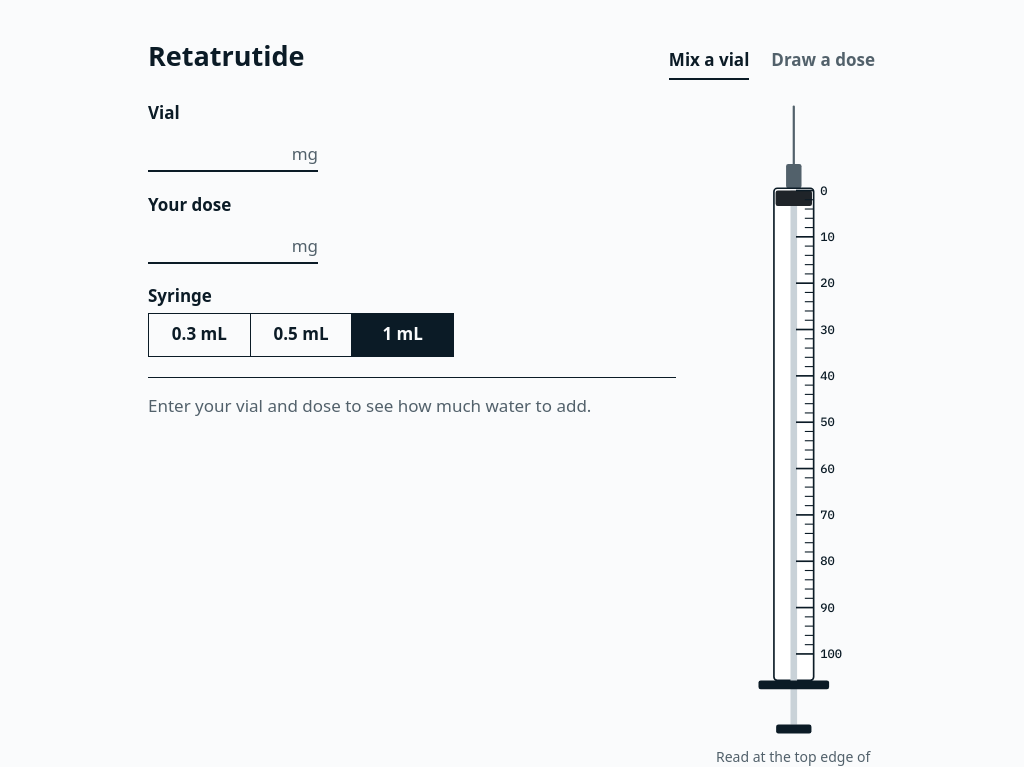
draw: a dose that won't fit shows the message and the overflow state
Click the tab "Draw a dose".
click(823, 60)  # box [770,45,876,76]
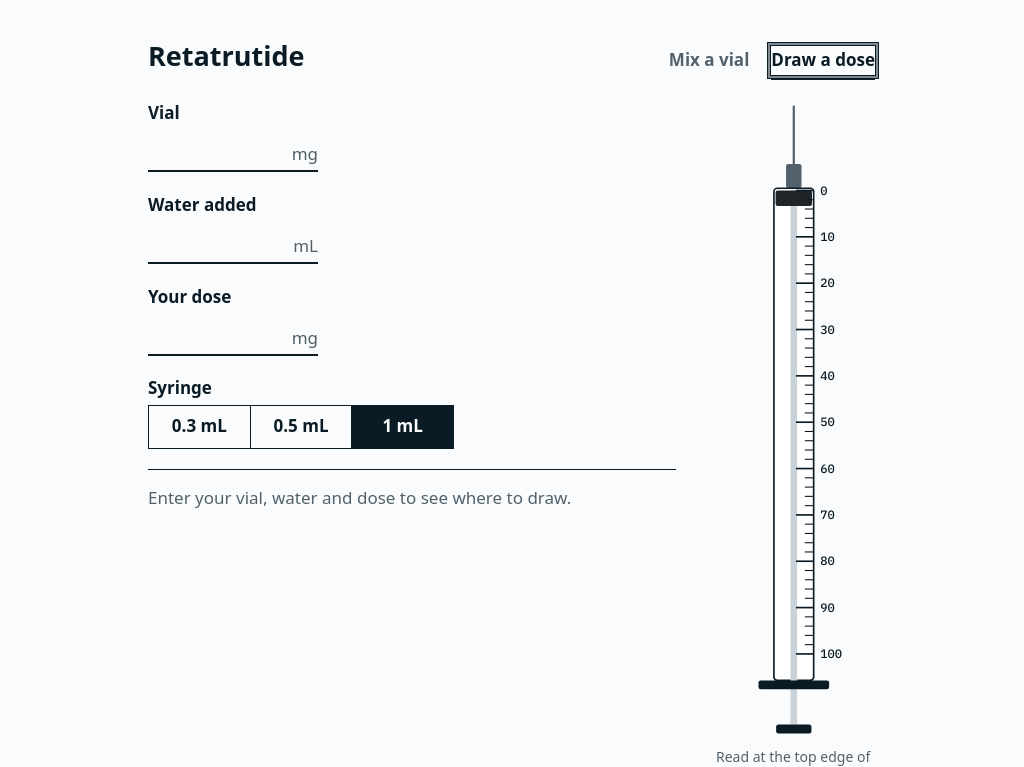
Result: the element named "Answer" reads "Enter your vial, water and dose to see where to draw." at [148,486,571,509]
Type "10" into the field labelled "Vial".
click(217, 150); type("10")  # box [148,130,286,170]
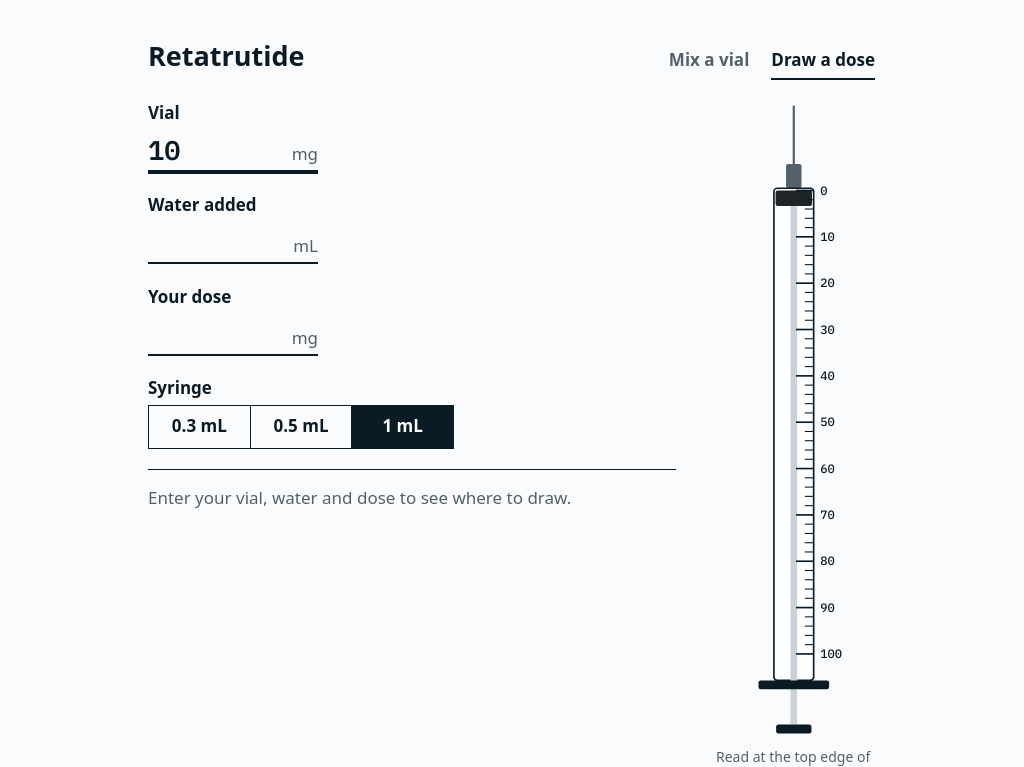
Type "2" into the field labelled "Water added".
click(218, 242); type("2")  # box [148,222,287,262]
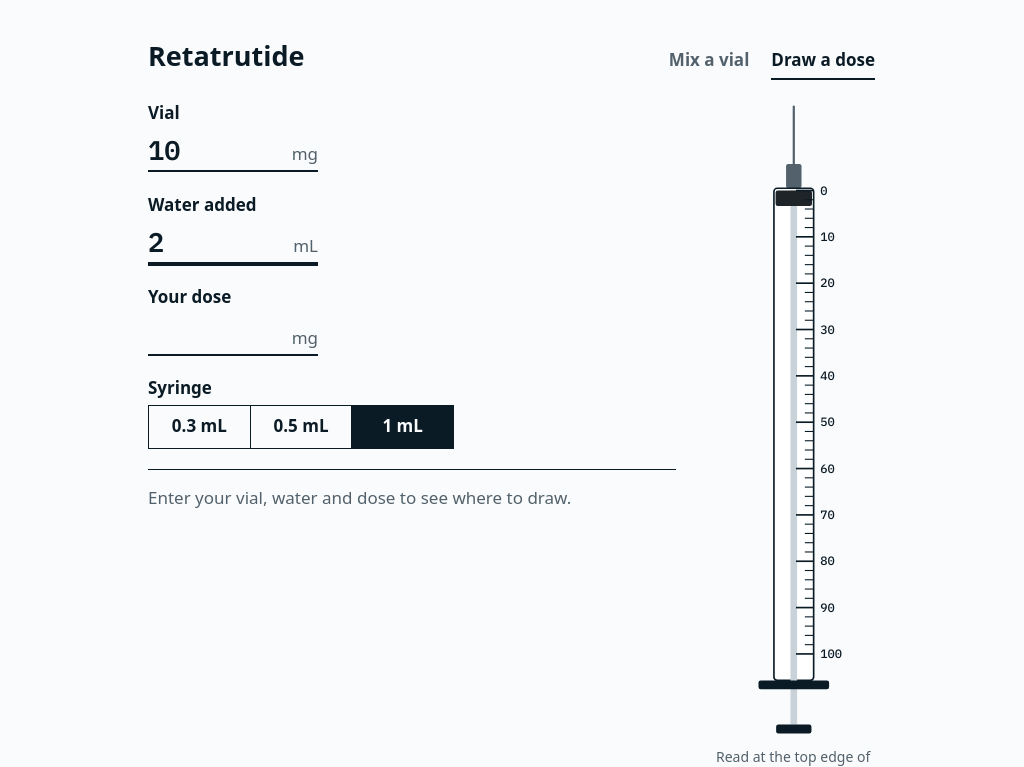
Type "2" into the field labelled "Your dose".
click(217, 334); type("2")  # box [148,314,286,354]
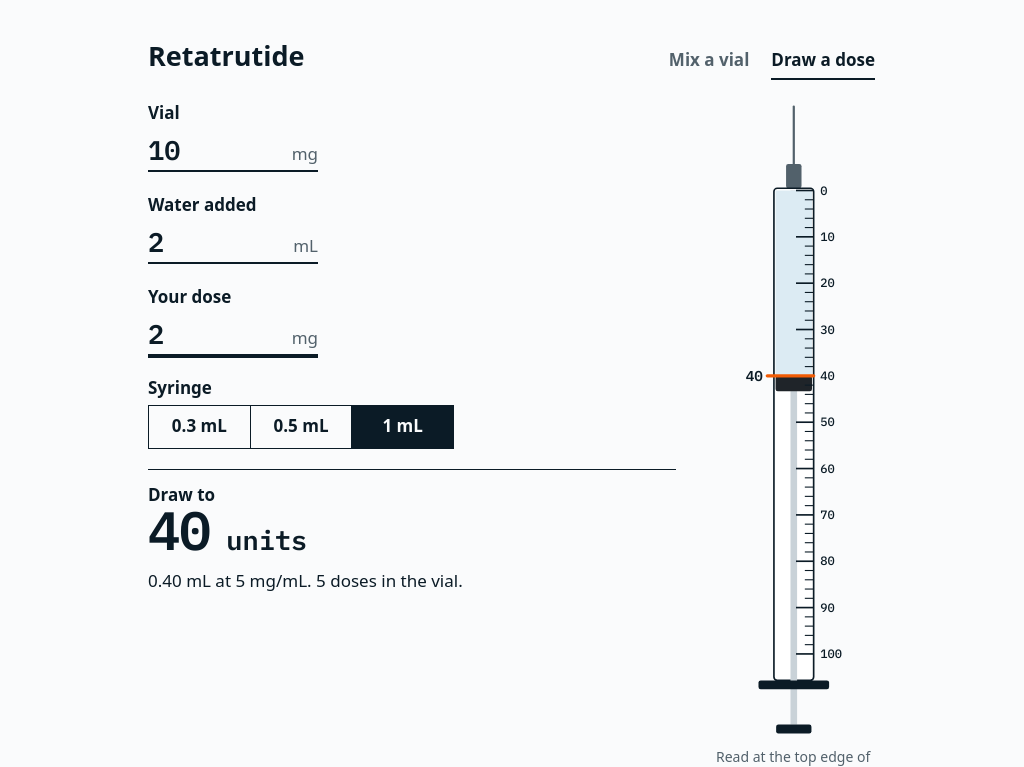
Result: the element named "Answer" shows "Draw to 40 units" at [148,469,676,593]
Result: the element named "Answer" shows "0.40 mL at 5 mg/mL. 5 doses in the vial." at [148,569,463,592]
Click the radio button labelled "0.3 mL".
click(199, 427)  # box [148,405,251,449]
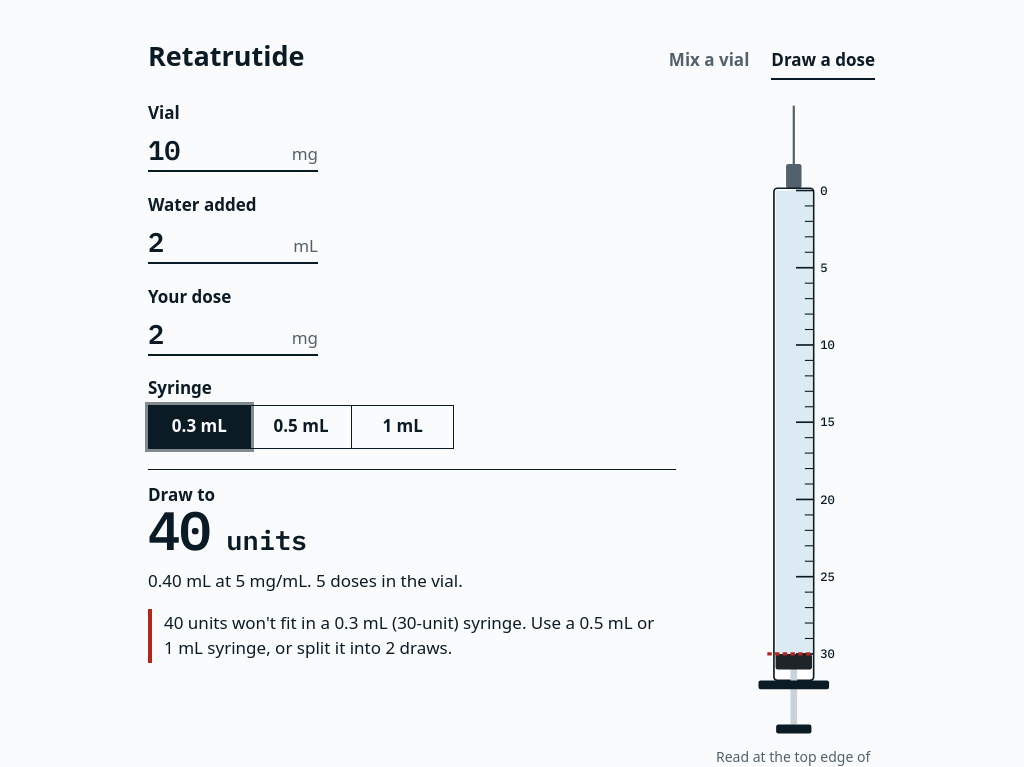
Result: the element named "Answer" shows "40 units won't fit in a 0.3 mL (30-unit) syringe. Use a 0.5 mL or 1 mL syringe, or split it into 2 draws." at [164,611,654,659]
